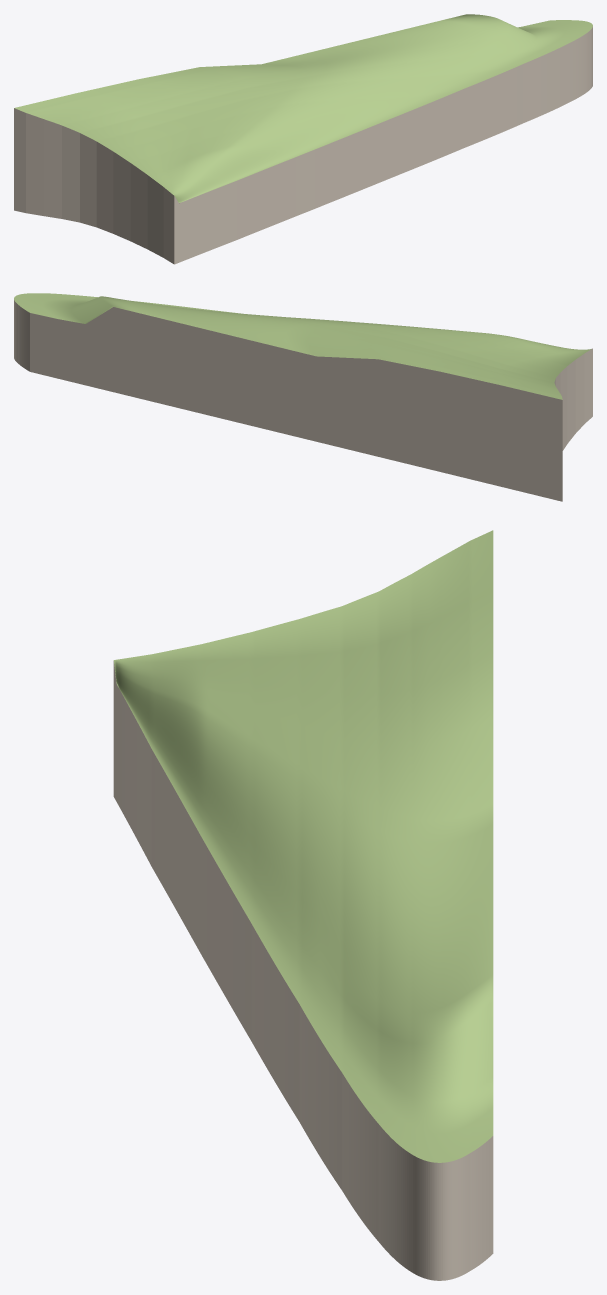
File: east-parts.glb
The picture shows the model from 3 angles, top to bottom: view 1: azimuth 30°, elevation 25°; view 2: azimuth 150°, elevation 25°; view 3: azimuth 270°, elevation 25°; orthographic projection. The views are drawn at different scales.
Parts seen in each view (by area): view 1: east/top, east/coastal-bank; view 2: east/coastal-bank, east/top, east/connection-bank; view 3: east/top, east/coastal-bank.
Part boxes in pixels (x1,y1,x2,y2): east/top: [14, 14, 592, 203]; east/coastal-bank: [14, 27, 592, 264]; east/coastal-bank: [14, 300, 592, 501]; east/top: [14, 293, 591, 399]; east/connection-bank: [141, 313, 316, 441]; east/top: [113, 530, 493, 1162]; east/coastal-bank: [113, 661, 493, 1280].
Size of the model in its own units: 8.8 by 1.53 by 2.58.
